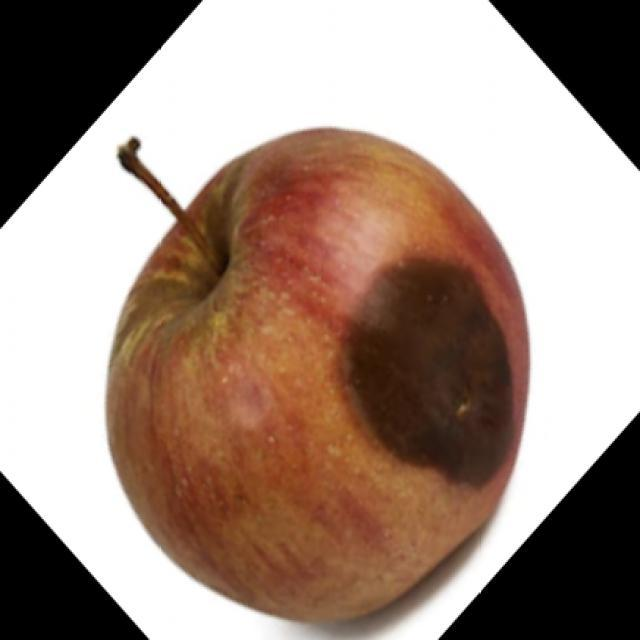Rotten: (90, 112, 530, 618)
